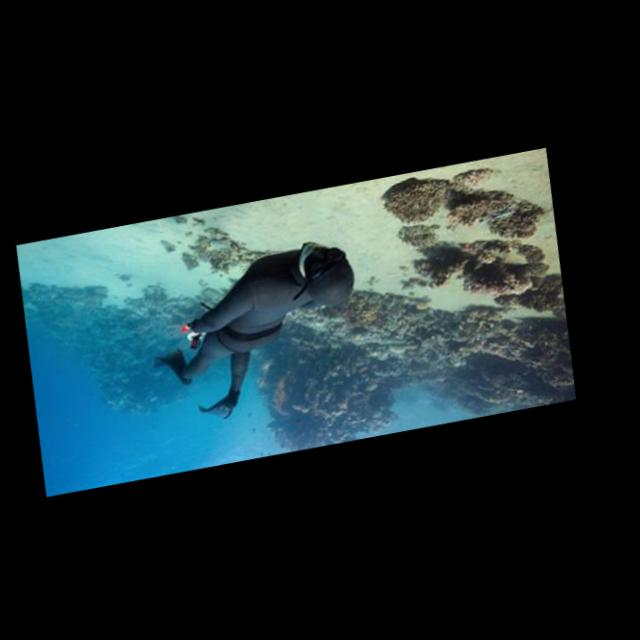human: (146, 230, 389, 437)
